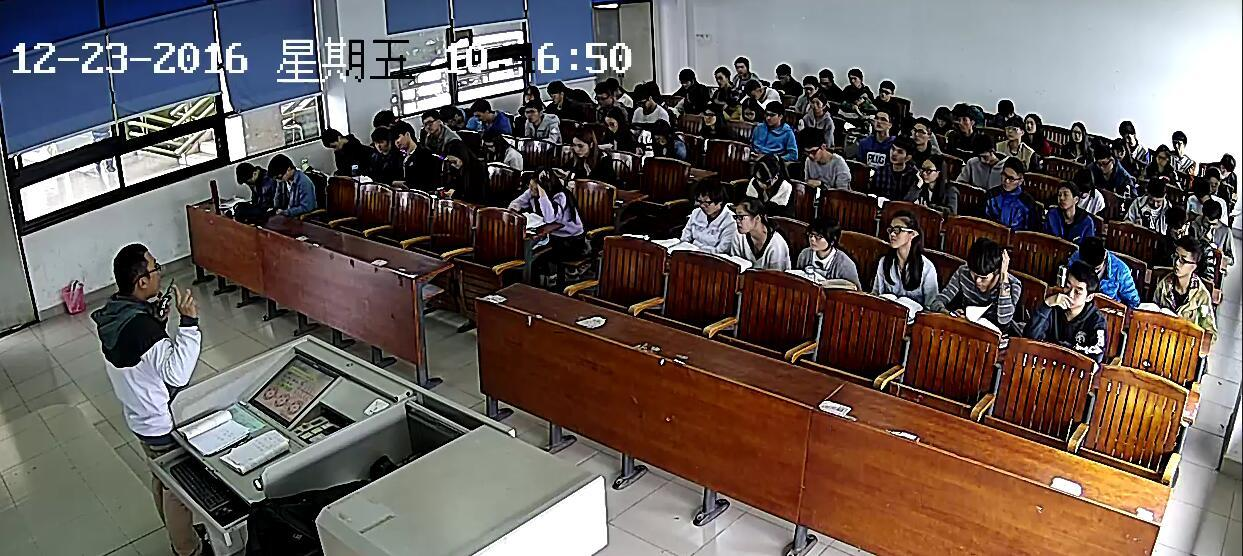head: (110, 239, 169, 303), (961, 238, 1010, 297), (1051, 264, 1099, 316), (884, 212, 924, 253), (1072, 235, 1109, 278), (732, 195, 767, 237), (803, 214, 839, 253), (1168, 236, 1198, 279), (696, 175, 725, 219), (752, 153, 784, 191), (798, 130, 829, 165), (444, 138, 474, 172), (643, 116, 674, 148), (527, 165, 556, 199), (996, 156, 1025, 190), (566, 125, 595, 158), (267, 152, 294, 186), (972, 132, 997, 167), (1086, 141, 1114, 172), (906, 119, 933, 151), (916, 154, 942, 186), (391, 120, 416, 153), (1166, 206, 1190, 240), (316, 124, 344, 153), (697, 101, 724, 131), (1069, 169, 1093, 202), (886, 135, 912, 165), (601, 103, 625, 134), (1143, 177, 1167, 208), (1053, 179, 1076, 211), (628, 80, 654, 108), (235, 159, 260, 188), (480, 126, 504, 156), (373, 111, 399, 137), (470, 96, 493, 124), (990, 96, 1015, 121), (1115, 118, 1139, 144), (368, 127, 391, 154), (710, 85, 733, 112), (420, 108, 441, 137), (1200, 200, 1221, 229), (1213, 150, 1236, 176), (591, 80, 614, 105), (676, 64, 697, 91), (739, 94, 759, 122), (439, 102, 461, 127), (761, 100, 783, 125), (952, 106, 974, 131), (543, 77, 564, 103), (1003, 116, 1024, 141), (730, 52, 750, 78), (928, 103, 948, 129), (1187, 175, 1207, 201), (709, 64, 731, 87), (808, 94, 829, 118), (871, 108, 891, 133), (817, 64, 836, 90), (687, 84, 708, 107), (522, 101, 542, 125), (877, 75, 896, 99), (1153, 143, 1172, 167), (1024, 111, 1042, 136), (801, 71, 818, 97), (518, 83, 539, 104), (844, 88, 864, 110), (775, 60, 794, 83), (1109, 137, 1128, 159), (1203, 166, 1220, 190), (1069, 119, 1085, 143), (743, 79, 762, 99), (846, 65, 862, 87), (1170, 131, 1186, 153), (604, 76, 621, 96)
